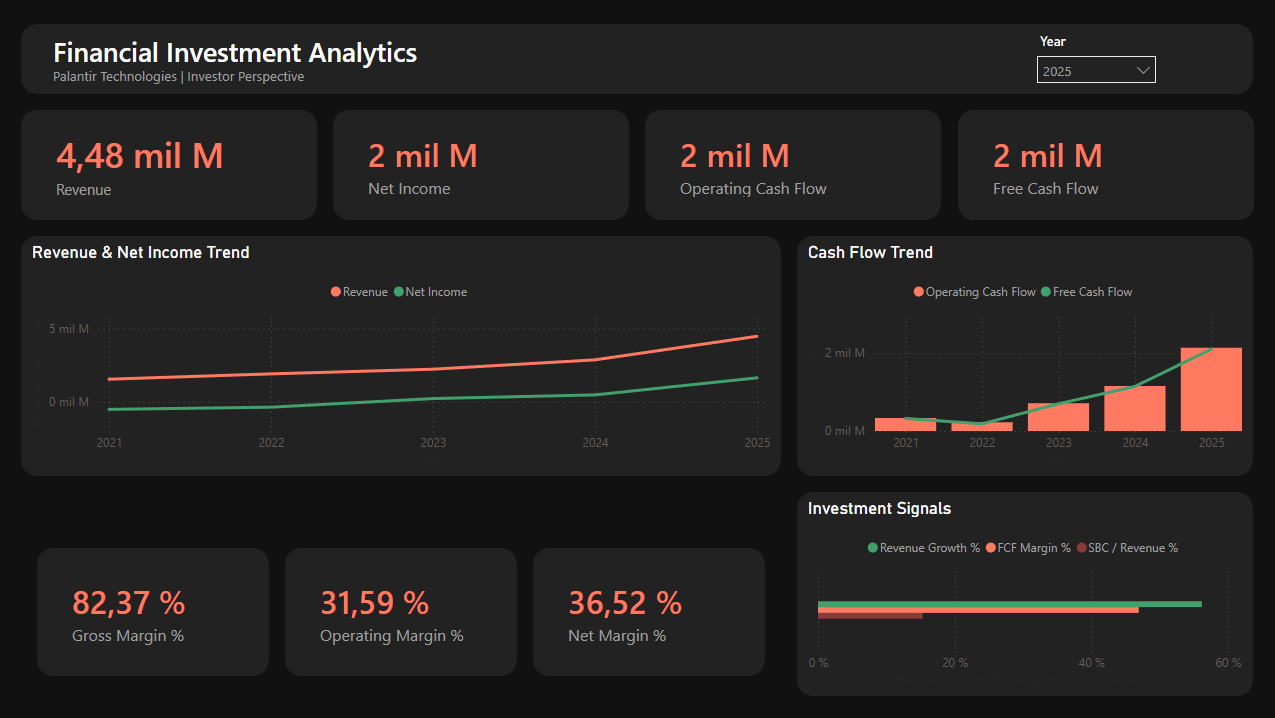

This screenshot's page, from the dashboard's own definition file:
{"tool":"powerbi","page":{"name":"Overview","canvas":[1280,720],"ordinal":0},"visuals":[{"type":"shape","box":[24,24,1232,70],"z":0},{"type":"textbox","box":[51,28,620,50],"z":1000},{"type":"textbox","box":[51,62,620,28],"z":2000},{"type":"slicer","fields":{"Values":["Dim_Year.Year"]},"box":[1025.2,24.3,148.8,66.1],"z":3000},{"type":"cardVisual","fields":{"Data":["Medidas.Revenue"]},"box":[24.3,110,296,110],"z":4000},{"type":"cardVisual","fields":{"Data":["Medidas.Net Income"]},"box":[336,110,296,110],"z":5000},{"type":"cardVisual","fields":{"Data":["Medidas.Operating Cash Flow"]},"box":[648,110,296,110],"z":6000},{"type":"cardVisual","fields":{"Data":["Medidas.Free Cash Flow"]},"box":[961,110,296,110],"z":7000},{"type":"lineChart","title":"Revenue & Net Income Trend","fields":{"Category":["Dim_Year.Year"],"Y":["Medidas.Revenue","Medidas.Net Income"]},"box":[24,236,760,240],"z":8000},{"type":"lineClusteredColumnComboChart","title":"Cash Flow Trend","fields":{"Category":["Dim_Year.Year"],"Y":["Medidas.Operating Cash Flow"],"Y2":["Medidas.Free Cash Flow"]},"box":[800,236,456,240],"z":9000},{"type":"cardVisual","fields":{"Data":["Medidas.Gross Margin %"]},"box":[40,548,232,128],"z":10000},{"type":"cardVisual","fields":{"Data":["Medidas.Operating Margin %"]},"box":[288,548,232,128],"z":11000},{"type":"cardVisual","fields":{"Data":["Medidas.Net Margin %"]},"box":[536,548,232,128],"z":12000},{"type":"clusteredBarChart","title":"Investment Signals","fields":{"Y":["Medidas.Revenue Growth %","Medidas.FCF Margin %","Medidas.SBC / Revenue %"]},"box":[800,492,456,204],"z":13000}]}

Visuals, with their boxes in screenshot pixels (x1, y1, x2, y2), scaled from the page's 1280x720 canvas onto the 1275x718 screenshot:
shape: locate(24, 24, 1251, 94)
textbox: locate(51, 28, 668, 78)
textbox: locate(51, 62, 668, 90)
slicer - Dim_Year.Year: locate(1021, 24, 1169, 90)
cardVisual - Medidas.Revenue: locate(24, 110, 319, 219)
cardVisual - Medidas.Net Income: locate(335, 110, 630, 219)
cardVisual - Medidas.Operating Cash Flow: locate(645, 110, 940, 219)
cardVisual - Medidas.Free Cash Flow: locate(957, 110, 1252, 219)
"Revenue & Net Income Trend" lineChart: locate(24, 235, 781, 475)
"Cash Flow Trend" lineClusteredColumnComboChart: locate(797, 235, 1251, 475)
cardVisual - Medidas.Gross Margin %: locate(40, 546, 271, 674)
cardVisual - Medidas.Operating Margin %: locate(287, 546, 518, 674)
cardVisual - Medidas.Net Margin %: locate(534, 546, 765, 674)
"Investment Signals" clusteredBarChart: locate(797, 491, 1251, 694)
